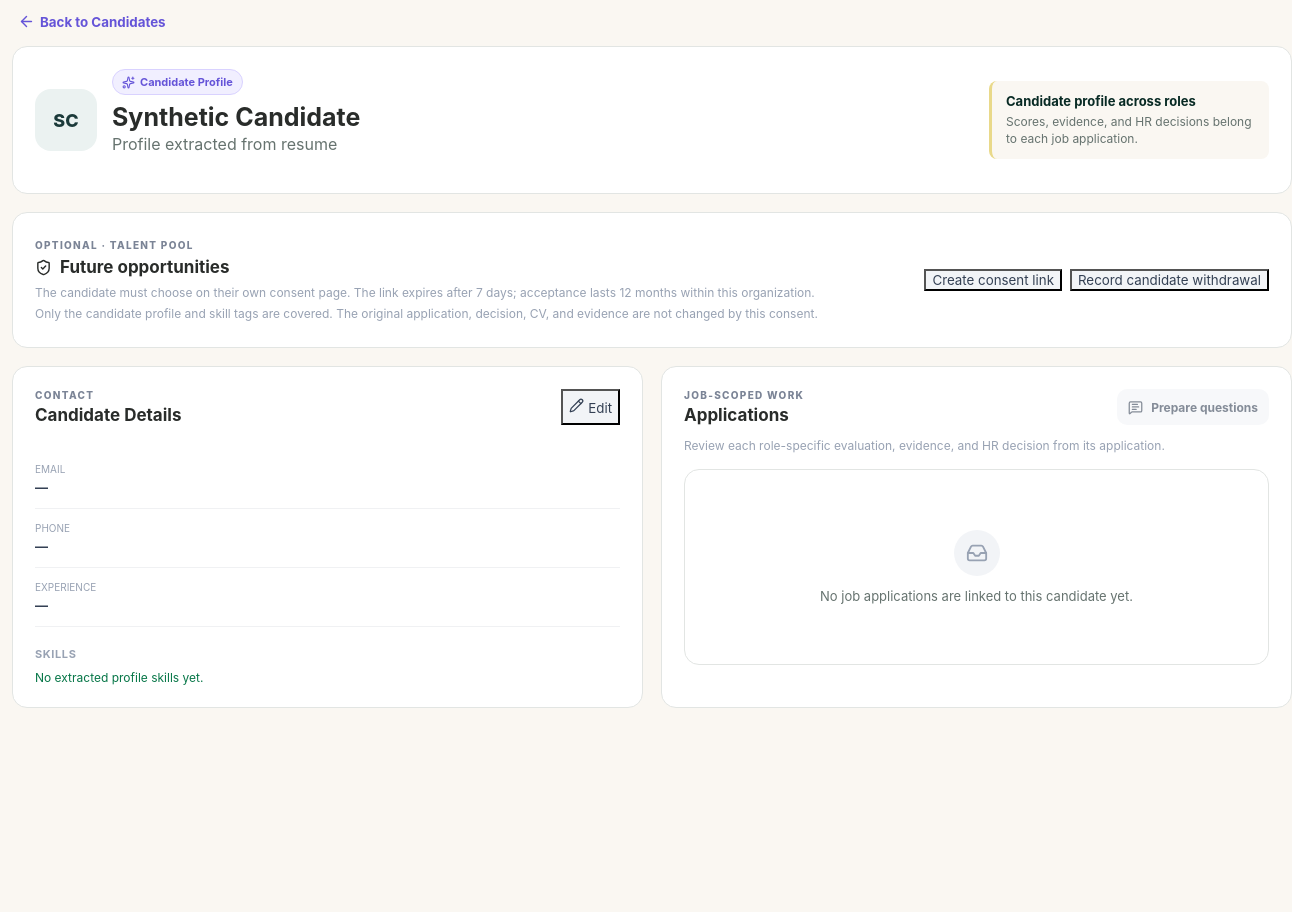
CandidateDetails Talent Pool consent controls › lets HR create a one-time link without recording consent
The image size is (1292, 912).
Click the button "Create consent link".
click(993, 280)  # box 924,269 -> 1062,291
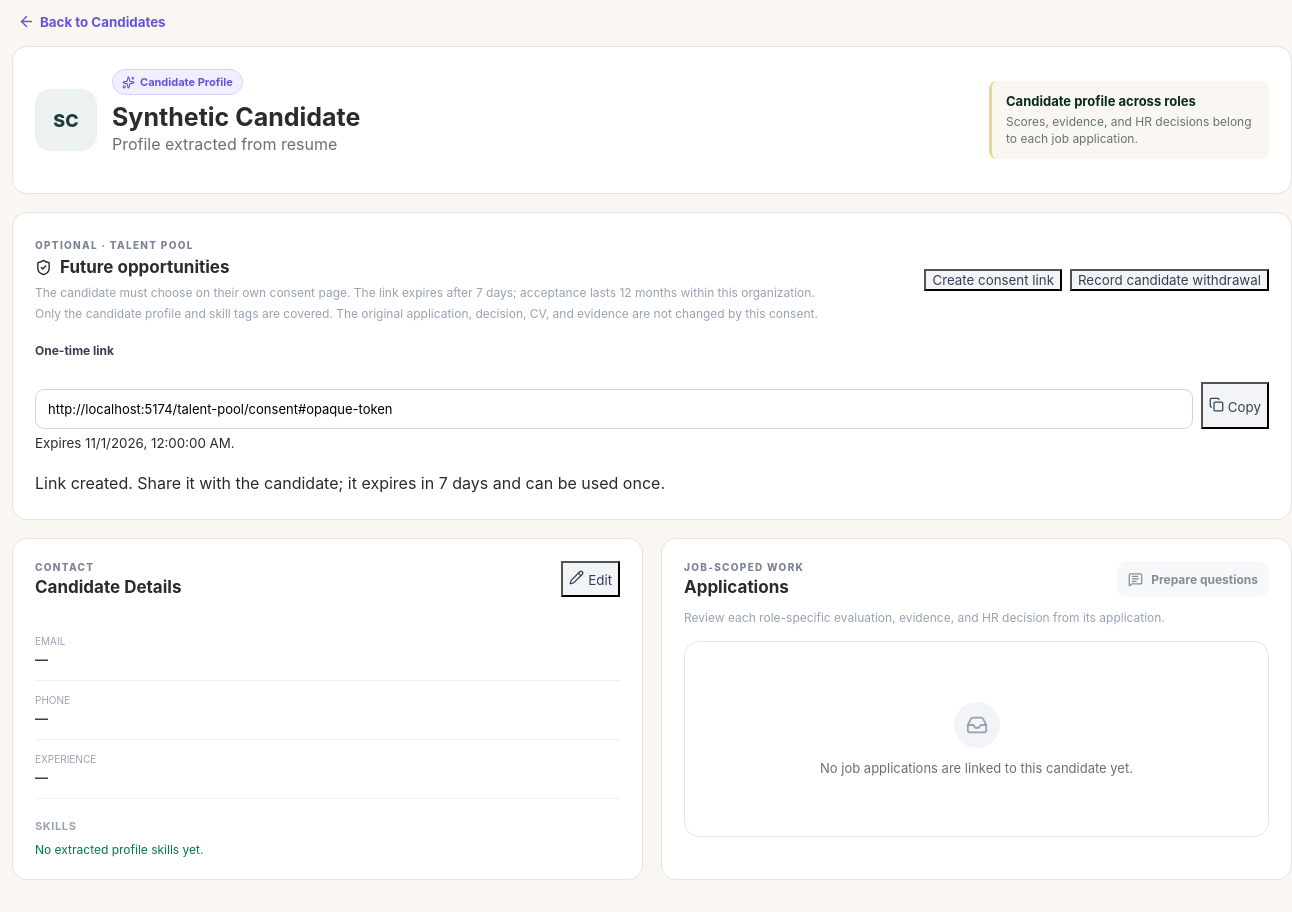
Expected: the field labelled "One-time link" holds "http://localhost:5174/talent-pool/consent#opaque-token", 35,389 -> 1193,429
Expected: the message shows "expires in 7 days", 35,473 -> 665,493
